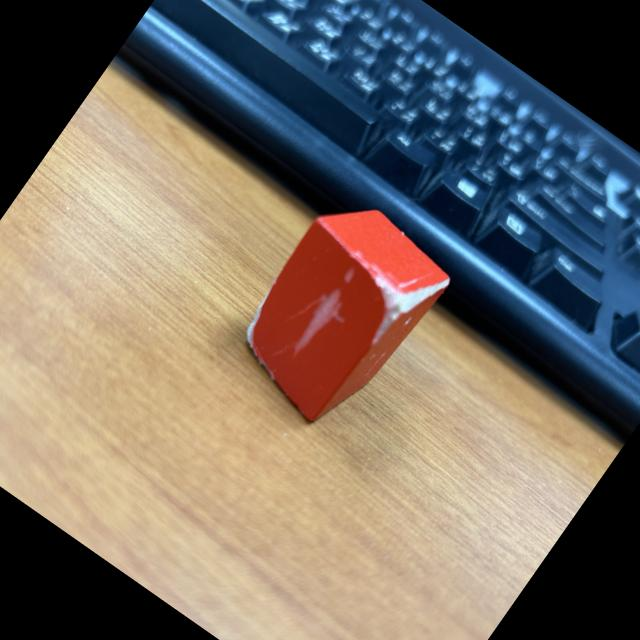broken: (216, 180, 462, 444)
